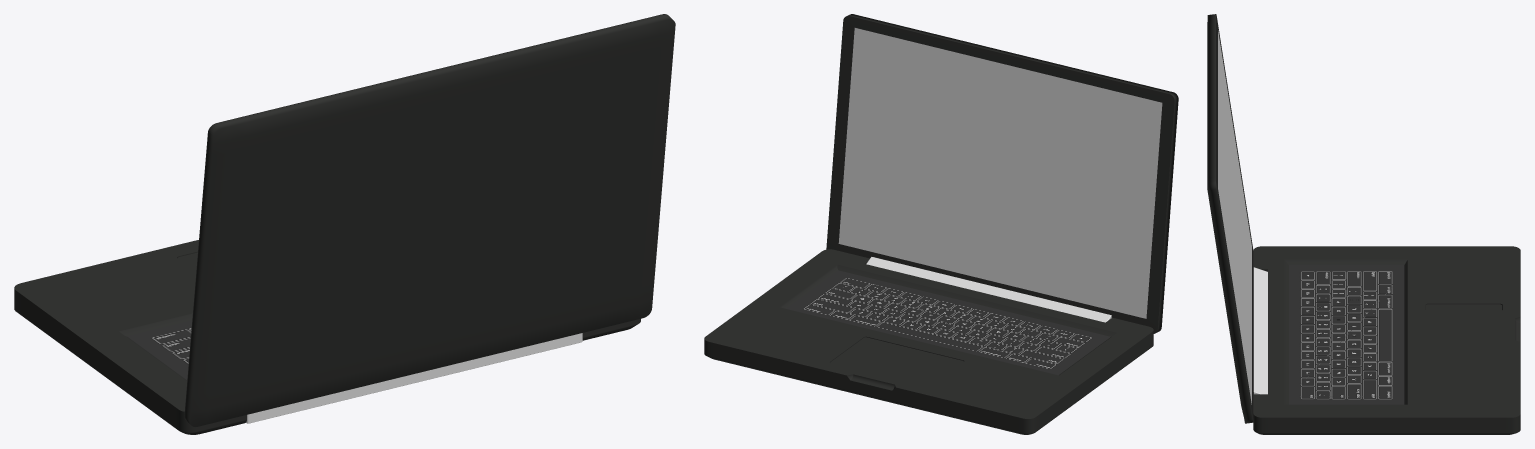
File: Laptop.fbx
3 views of the same model, side by side, from view 1: azimuth 30°, elevation 25°; view 2: azimuth 150°, elevation 25°; view 3: azimuth 270°, elevation 25° (orthographic). The views are drawn at different scales.
Visible parts, largest first — view 1: Cube.004, Cube.007, Cube, Cube.035, Cube.001; view 2: Cube.003, Cube.007, Cube.001, Cube.004, Cube, Cube.035; view 3: Cube.007, Cube.001, Cube.003, Cube.004, Cube.035, Cube.
Part boxes in pixels (left/top/right/bottom): Cube.004: left=184, top=14, right=675, bottom=426; Cube.007: left=14, top=240, right=640, bottom=434; Cube: left=246, top=333, right=582, bottom=423; Cube.035: left=91, top=334, right=186, bottom=396; Cube.001: left=127, top=320, right=192, bottom=379; Cube.003: left=838, top=28, right=1162, bottom=318; Cube.007: left=704, top=249, right=1153, bottom=434; Cube.001: left=786, top=270, right=1110, bottom=374; Cube.004: left=826, top=14, right=1178, bottom=333; Cube: left=866, top=257, right=1111, bottom=322; Cube.035: left=759, top=260, right=1137, bottom=379; Cube.007: left=1253, top=246, right=1520, bottom=434; Cube.001: left=1289, top=265, right=1404, bottom=404; Cube.003: left=1218, top=30, right=1251, bottom=404; Cube.004: left=1207, top=14, right=1253, bottom=423; Cube.035: left=1288, top=247, right=1403, bottom=416; Cube: left=1253, top=267, right=1267, bottom=394.
Size of the model in its own units: 36.69 by 25.24 by 28.26.
